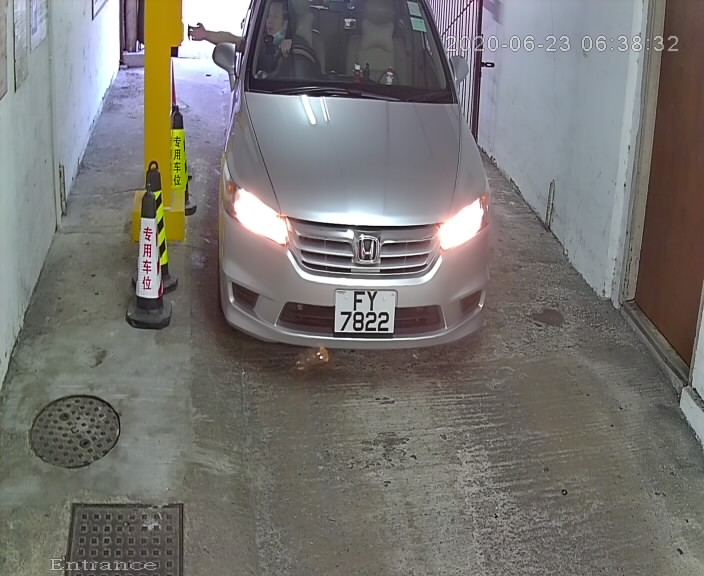privatecar: (202, 1, 508, 367)
